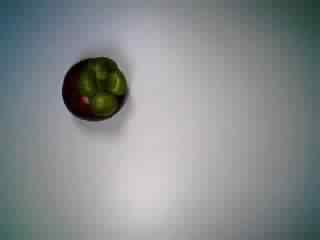mangosteen: (56, 51, 134, 127)
